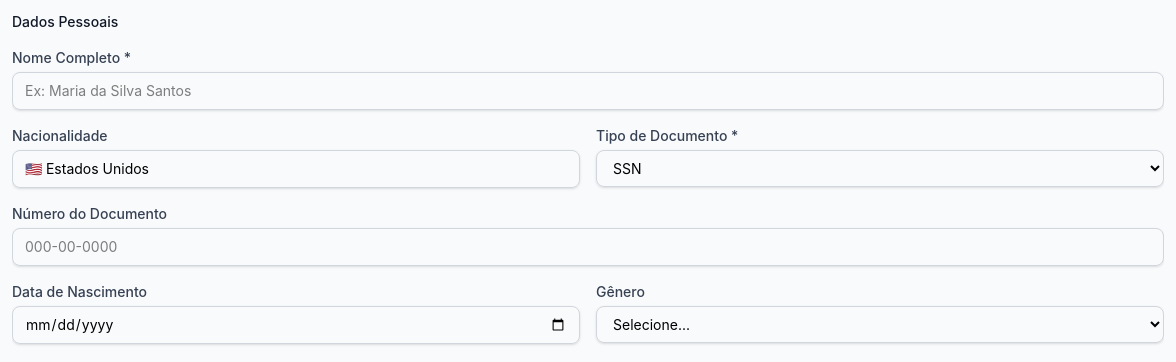
Test: PersonalDataSection document placeholder › shows a type-appropriate placeholder for the selected document type
Expected: the field with placeholder "000-00-0000" is shown, x1=12 y1=228 x2=1164 y2=266
Select "Passaporte" in the dropdown below "Tipo de Documento *": [880, 168] box x1=596 y1=150 x2=1164 y2=187
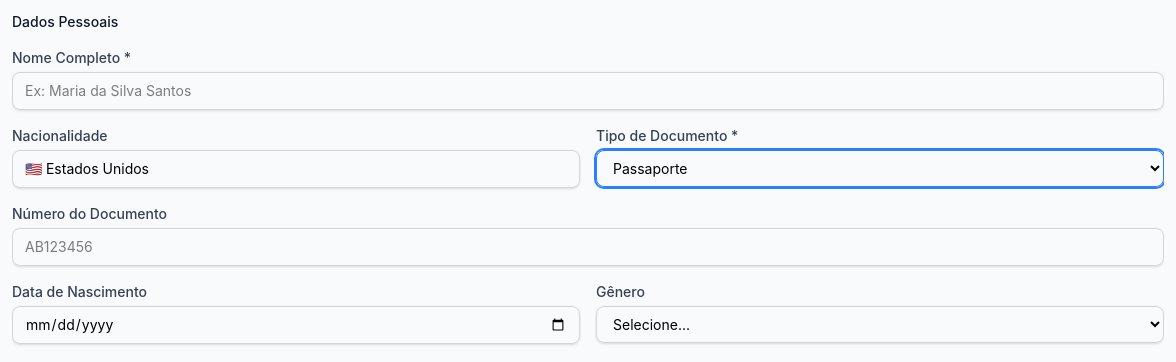
Expected: the field with placeholder "AB123456" is shown, x1=12 y1=228 x2=1164 y2=266
